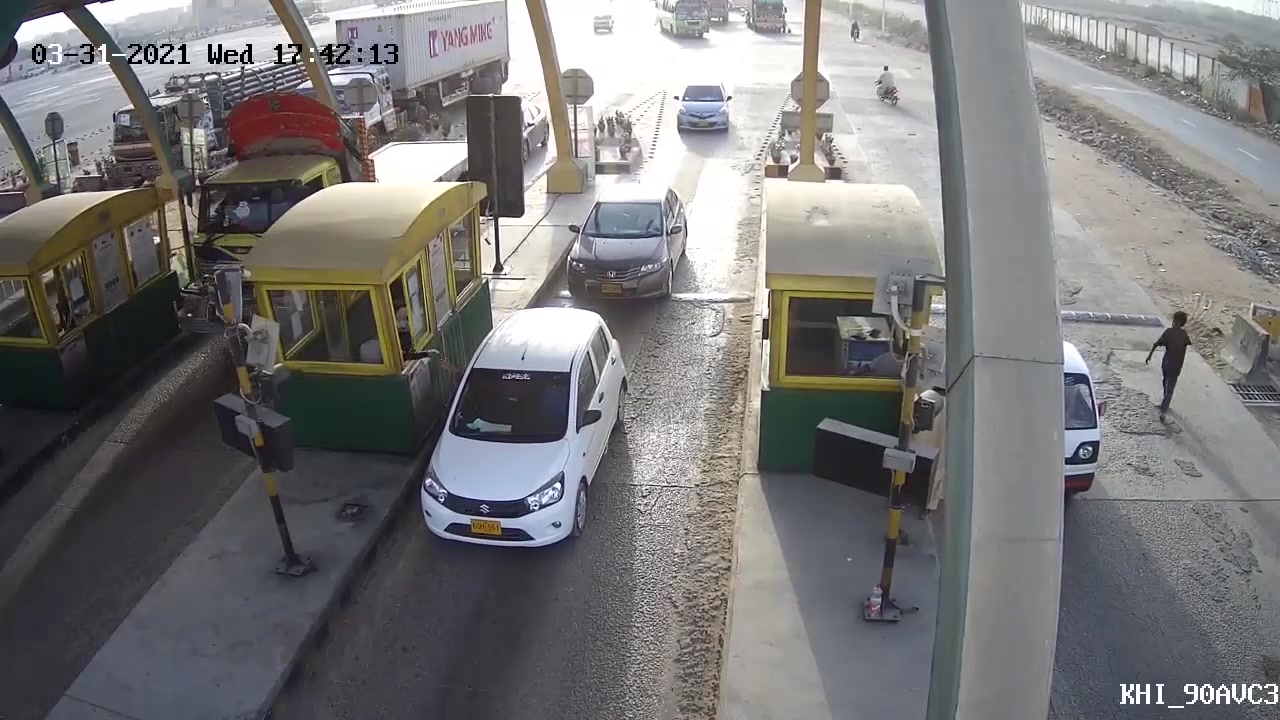F1: (420, 309, 620, 565), (561, 179, 689, 292)
